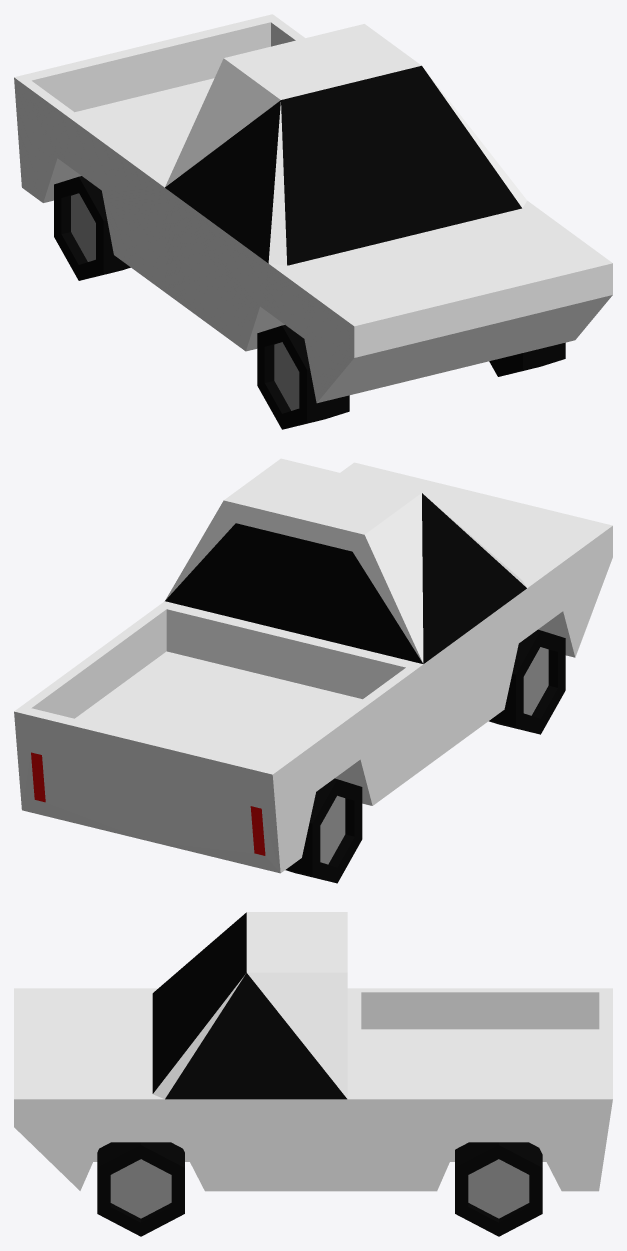
File: PropTruckAGreen.fbx
3 views of the same model, one above another, from view 1: azimuth 30°, elevation 25°; view 2: azimuth 150°, elevation 25°; view 3: azimuth 270°, elevation 25° (orthographic). The views are drawn at different scales.
Visible parts, largest first — view 1: PropTruckAGreen, PropTruckARightWheel, PropTruckARearWheels, PropTruckALeftWheel; view 2: PropTruckAGreen, PropTruckARightWheel, PropTruckARearWheels; view 3: PropTruckAGreen, PropTruckALeftWheel, PropTruckARearWheels.
Boxes of the visible parts, x1=… form: PropTruckAGreen: x1=14, y1=14, x2=612, y2=403; PropTruckARightWheel: x1=257, y1=325, x2=349, y2=429; PropTruckARearWheels: x1=54, y1=176, x2=130, y2=280; PropTruckALeftWheel: x1=489, y1=342, x2=565, y2=376; PropTruckAGreen: x1=14, y1=458, x2=612, y2=873; PropTruckARightWheel: x1=489, y1=629, x2=565, y2=734; PropTruckARearWheels: x1=285, y1=778, x2=362, y2=883; PropTruckAGreen: x1=14, y1=912, x2=612, y2=1191; PropTruckALeftWheel: x1=97, y1=1142, x2=184, y2=1236; PropTruckARearWheels: x1=455, y1=1142, x2=542, y2=1236.
Size of the model in its own units: 94.27 by 94.5 by 215.
1 material, 1 textured.
